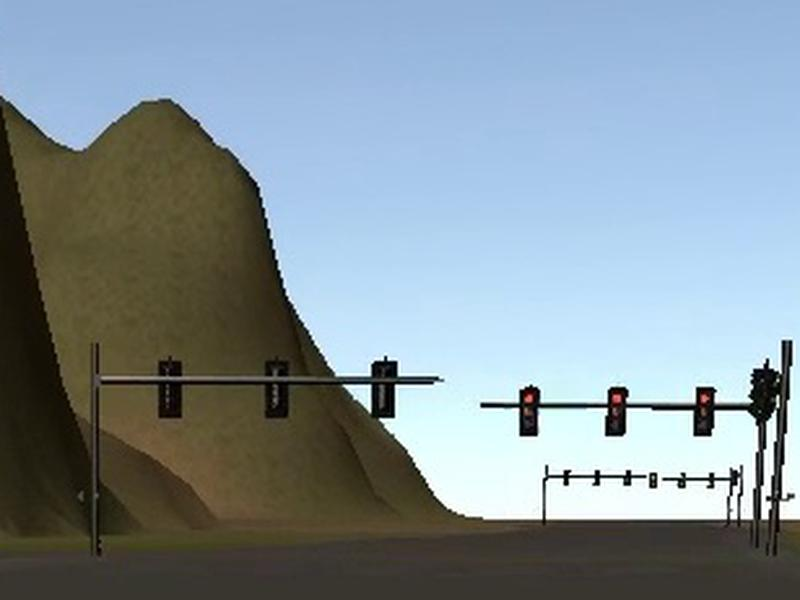Red: (605, 387, 629, 437), (694, 387, 717, 435), (520, 386, 539, 436)
